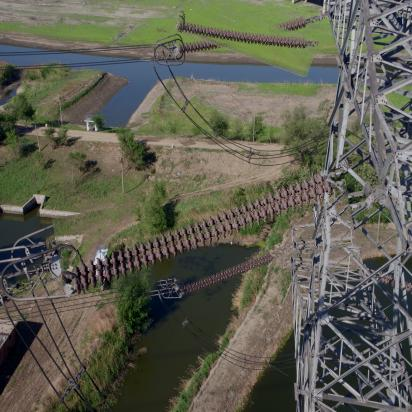insulator: (56, 180, 357, 286), (176, 5, 319, 68), (176, 254, 285, 295)
